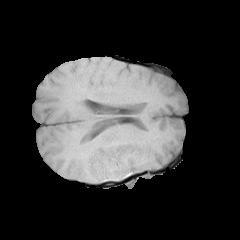glioma: (97, 147, 141, 180)
